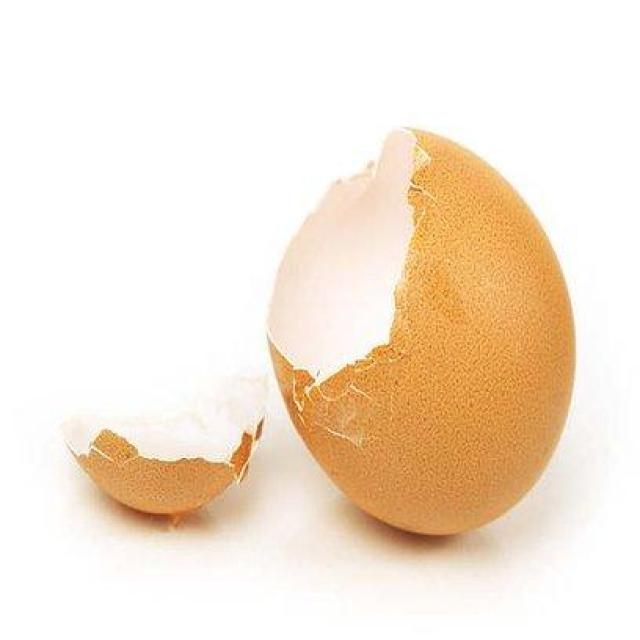organic: (265, 127, 577, 540), (55, 373, 268, 522)
